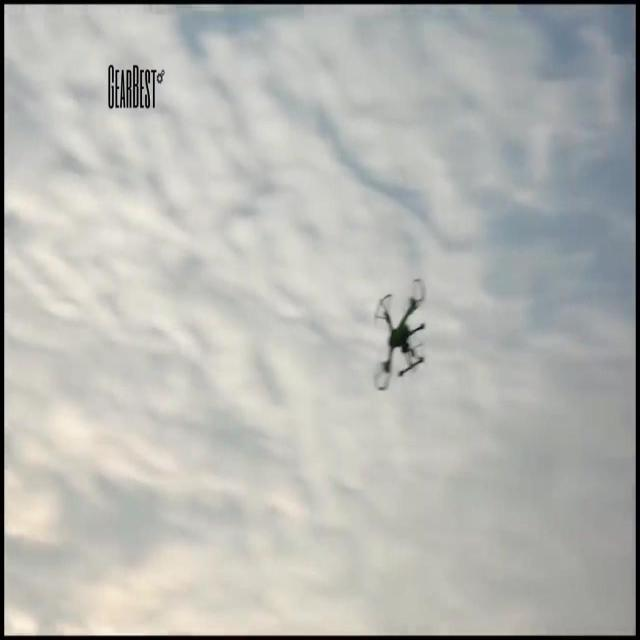drone: (374, 274, 426, 390)
